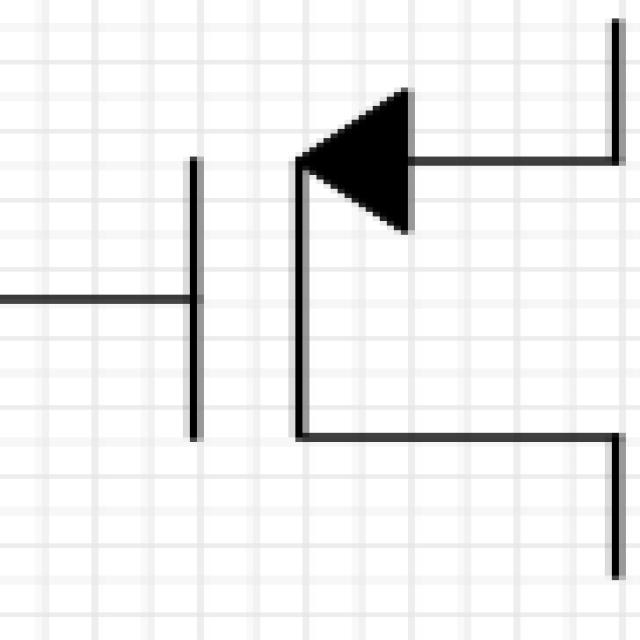pmos: (21, 9, 640, 571)
